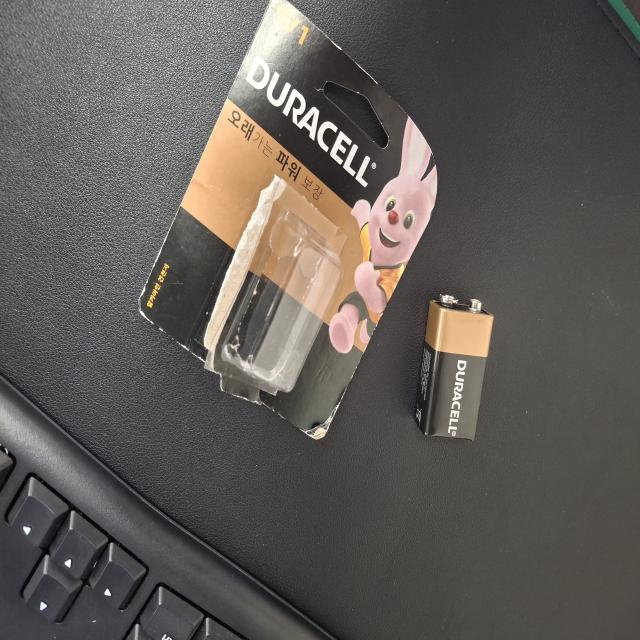9V: (221, 194, 330, 299)
